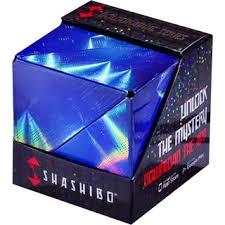cube: (12, 1, 212, 225)
